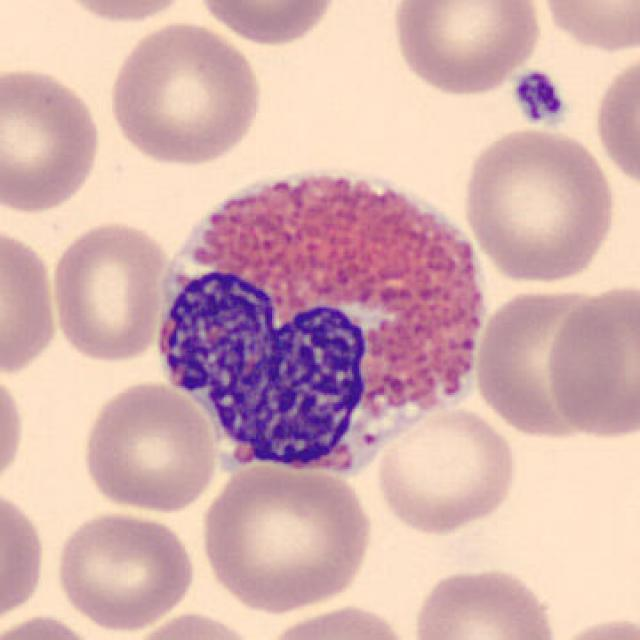Eosinophil: (137, 146, 503, 492)
Platelets: (508, 67, 569, 129)
RBC: (195, 458, 377, 617), (457, 124, 619, 288), (105, 18, 267, 169), (471, 280, 617, 442), (370, 403, 519, 538), (76, 377, 220, 515), (50, 506, 199, 633), (46, 217, 172, 365), (0, 64, 105, 215), (542, 279, 638, 444), (386, 0, 546, 99), (407, 562, 562, 640), (0, 220, 62, 381), (192, 0, 341, 48), (0, 483, 48, 631), (592, 46, 638, 196), (258, 601, 418, 640), (535, 0, 638, 55), (122, 610, 266, 640), (44, 0, 200, 26), (0, 363, 28, 497), (0, 610, 108, 640), (544, 610, 640, 640)
